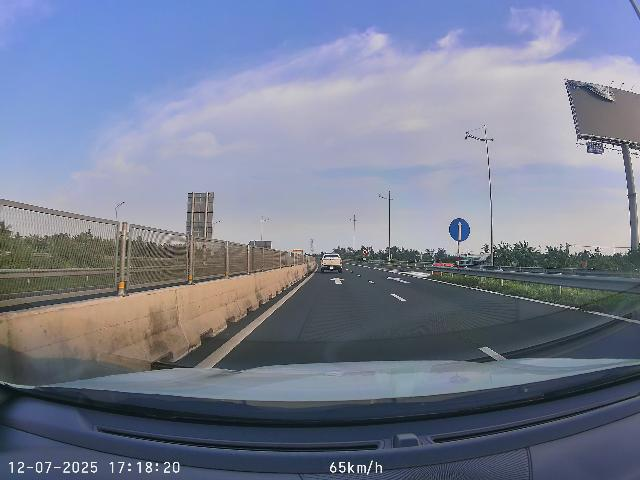301a-cac-xe-chi-duoc-di-thang: (449, 218, 470, 242)
